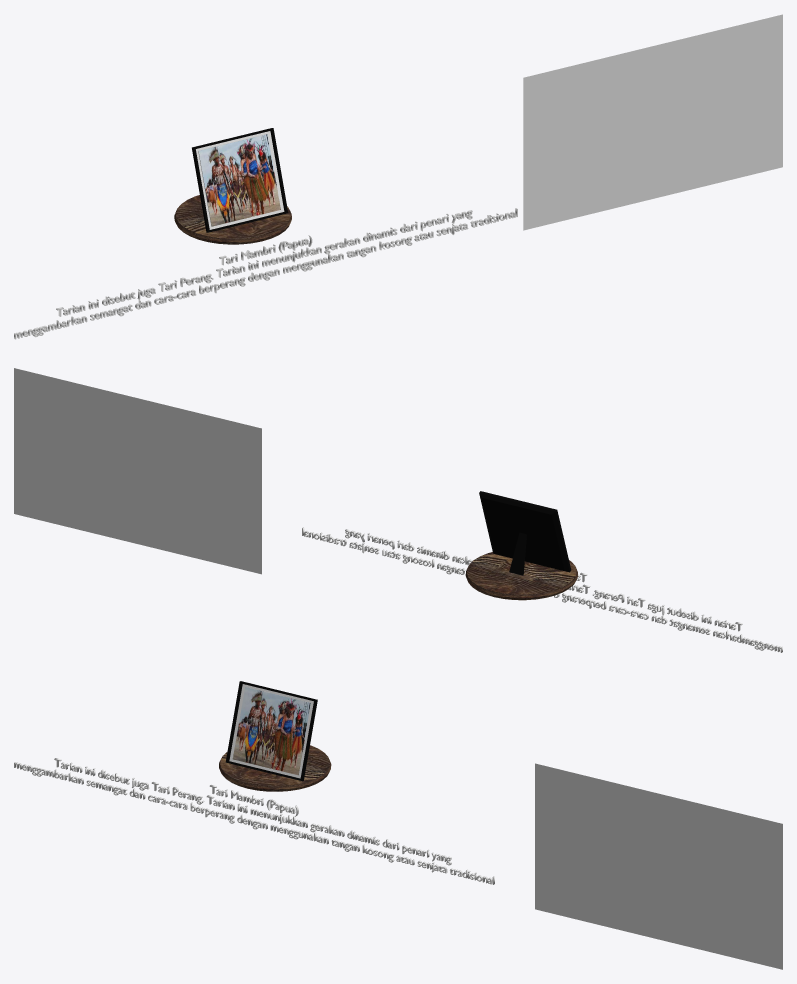
Rendered from 2. Tari Mambri Papua.fbx.
The picture shows the model from 3 angles, top to bottom: view 1: azimuth 30°, elevation 25°; view 2: azimuth 150°, elevation 25°; view 3: azimuth 330°, elevation 25°; orthographic projection. The views are drawn at different scales.
Parts seen in each view (by area): view 1: Plane, Cube.038, Text.001; view 2: Plane, Cube.038, Text.001; view 3: Plane, Cube.038, Text.001.
Part boxes in pixels (<box>): Plane: <box>523,14,782,230</box>; Cube.038: <box>174,128,291,244</box>; Text.001: <box>14,208,517,339</box>; Plane: <box>14,368,261,574</box>; Cube.038: <box>465,491,577,600</box>; Text.001: <box>302,527,782,652</box>; Plane: <box>535,763,782,969</box>; Cube.038: <box>219,681,331,791</box>; Text.001: <box>14,758,494,884</box>.
Size of the model in its own units: 9692 by 1806 by 1260.
Materials: 6 (3 with a texture image).
